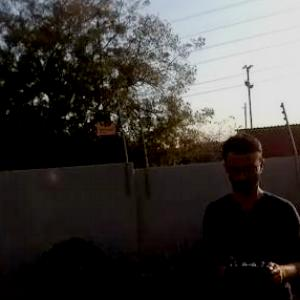follow: (197, 125, 300, 299)
